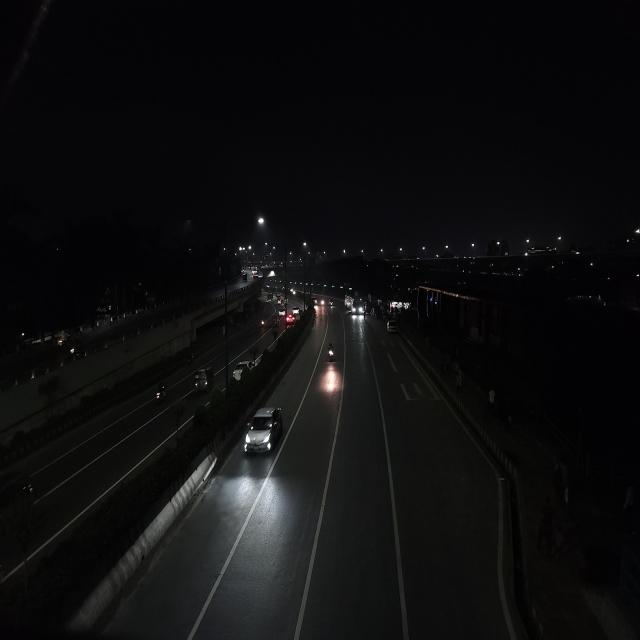bus: (352, 298, 364, 318)
car: (242, 402, 284, 459), (231, 357, 255, 384), (385, 316, 398, 335), (285, 315, 296, 328), (292, 307, 302, 315)
cng: (192, 364, 214, 394), (240, 271, 250, 284), (272, 316, 279, 327), (328, 298, 335, 309)
motorcycle: (152, 380, 168, 406), (326, 341, 336, 364), (260, 314, 266, 330)
